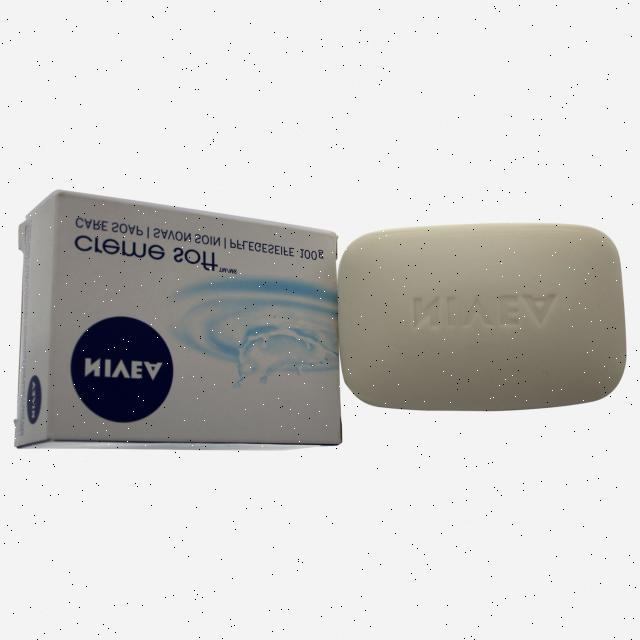soap: (344, 205, 637, 422)
